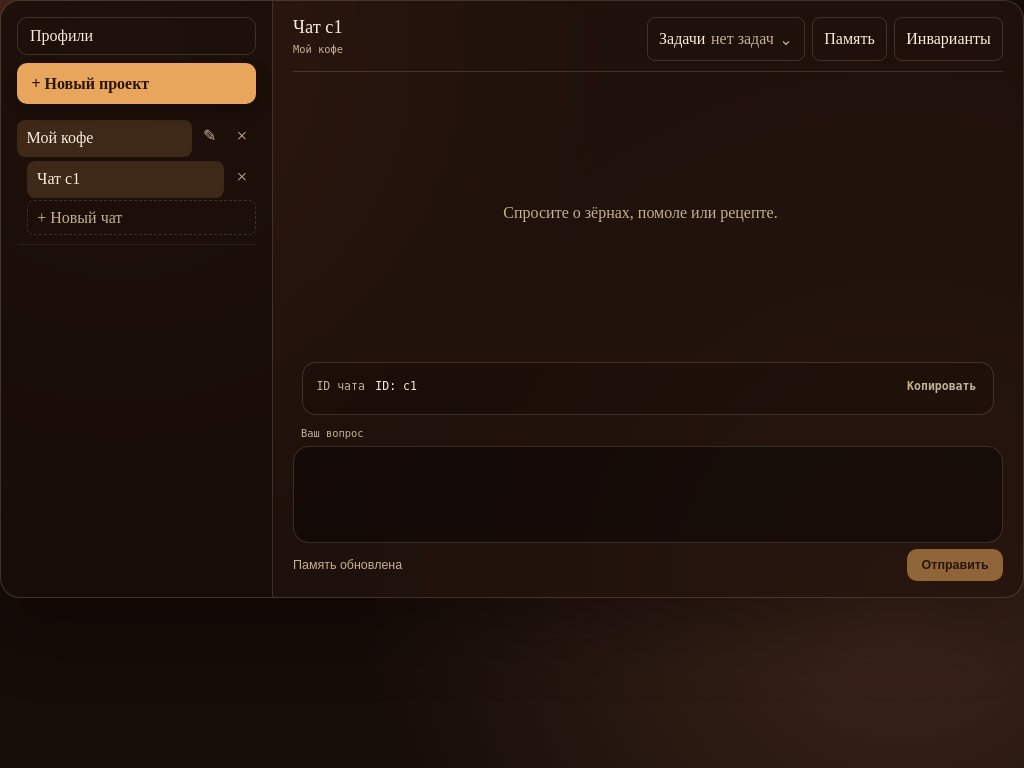
it: BaristaWorkspace › загружает read-only панель инвариантов и повторяет только её ошибку
Click the button "Инварианты": x=949, y=39 x1=894 y1=17 x2=1003 y2=61
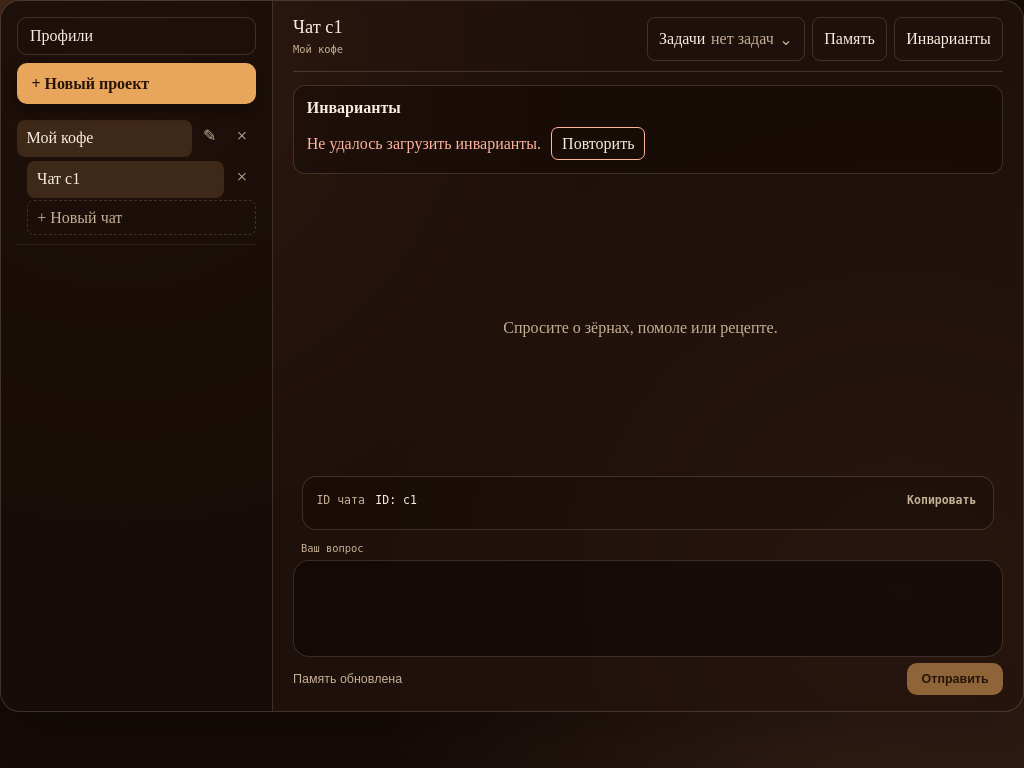
Expected: the text box labelled "Ваш вопрос" is enabled, x1=293 y1=560 x2=1003 y2=657
Expected: the message "Не удалось загрузить инварианты. Повторить" is shown, x1=307 y1=127 x2=645 y2=160
Click the button "Повторить": x=598, y=144 x1=552 y1=127 x2=645 y2=160
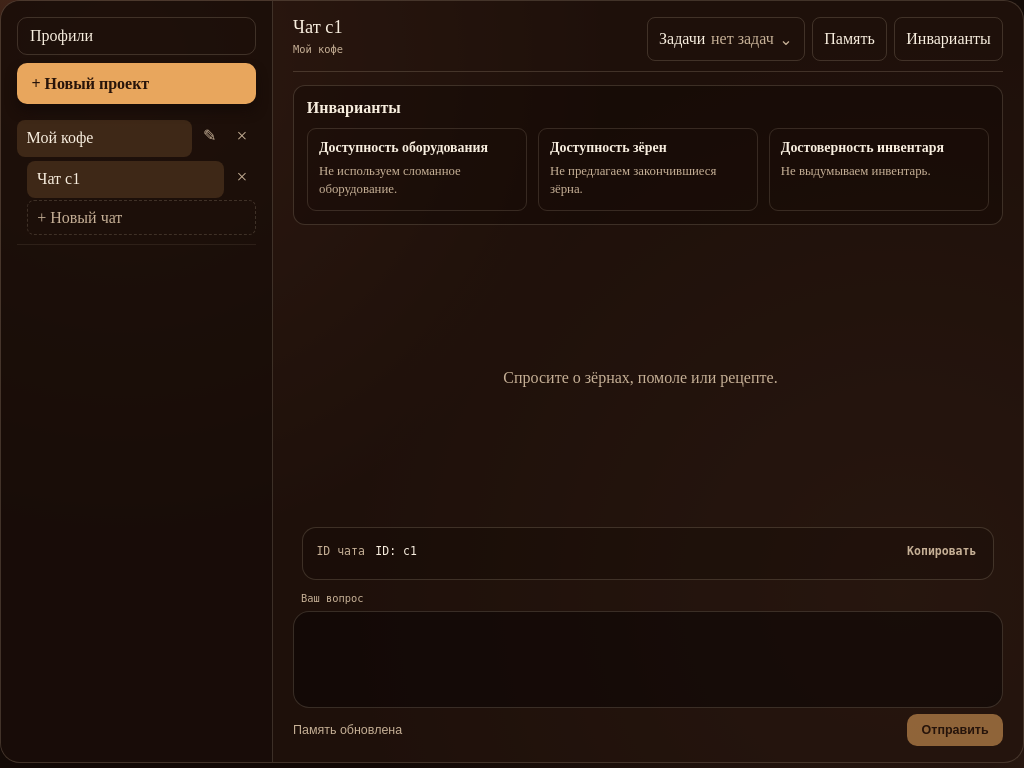
Expected: the heading "Доступность оборудования" is shown, x1=319 y1=140 x2=515 y2=156
Expected: the heading "Достоверность инвентаря" is shown, x1=781 y1=140 x2=944 y2=155
